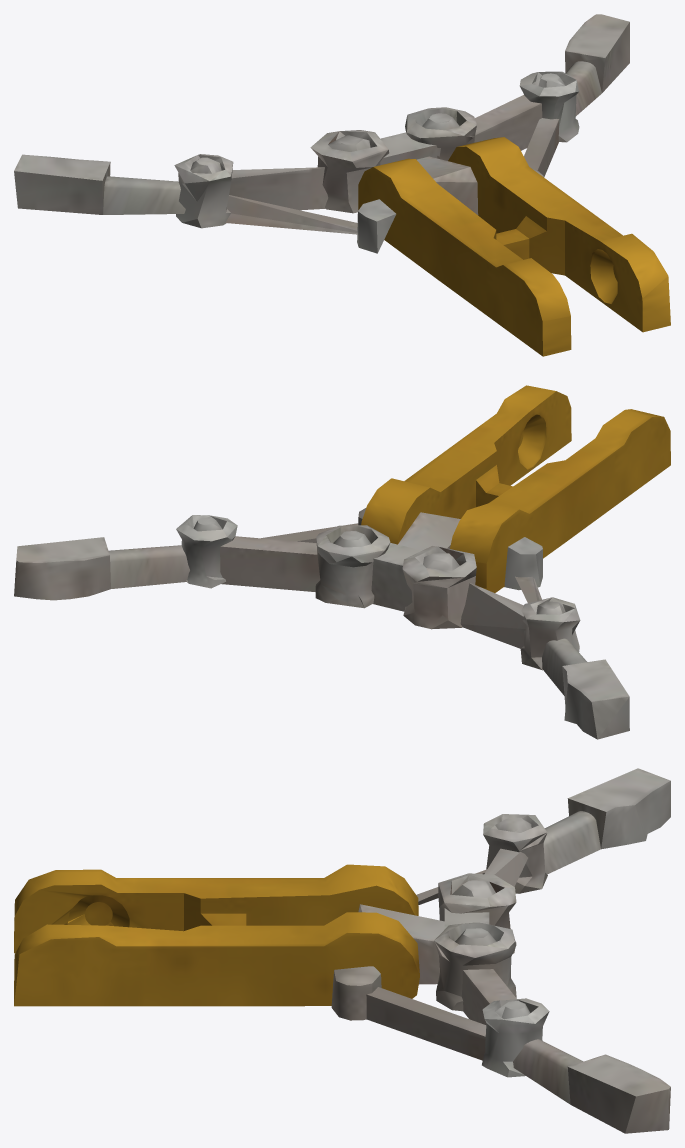
Rendered from inserter-arm-bulk-hand-open.glb.
3 renders of one model, top to bottom at view 1: azimuth 30°, elevation 25°; view 2: azimuth 150°, elevation 25°; view 3: azimuth 270°, elevation 25°, orthographic. The views are drawn at different scales.
Parts seen in each view (by area): view 1: body; view 2: body; view 3: body.
Part boxes in pixels (x1,y1,x2,y2): body: (14, 14, 670, 356); body: (14, 385, 670, 739); body: (14, 768, 670, 1133).
Size of the model in its own units: 1.06 by 0.1105 by 0.8929.
Materials: 2 (2 with a texture image).
